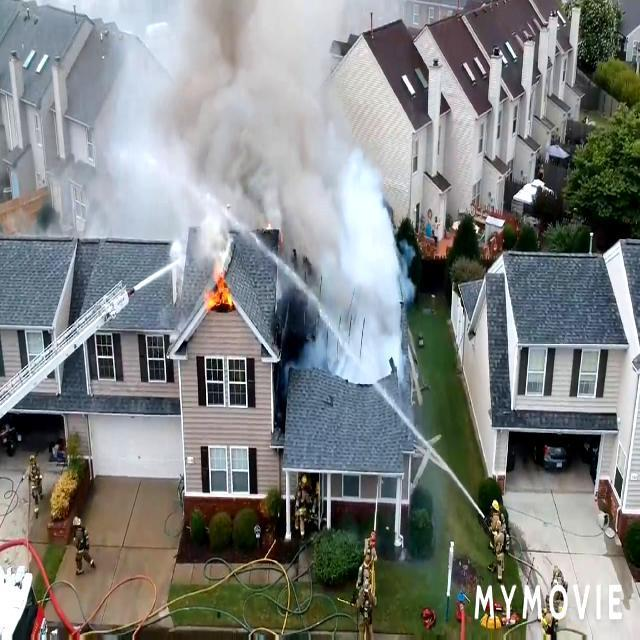Fire: (206, 272, 236, 314)
Smoke: (62, 0, 377, 220), (310, 188, 413, 360)
